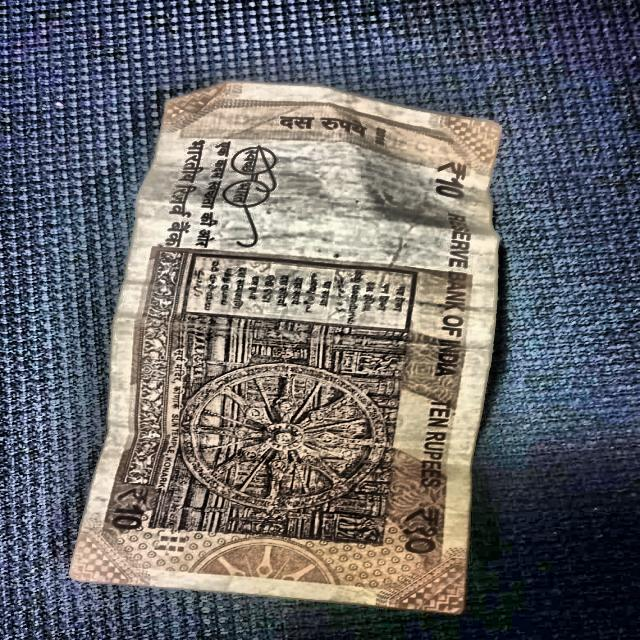-10-: (98, 44, 496, 640)
